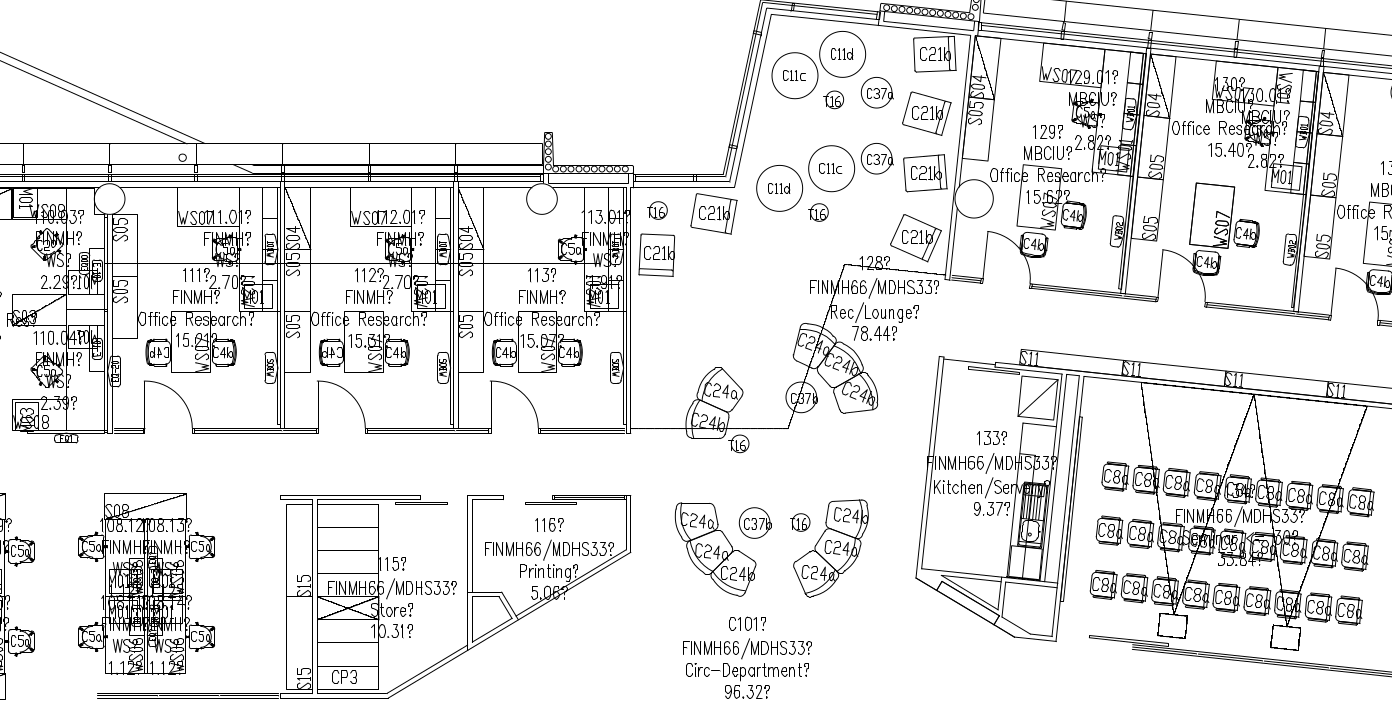door: (485, 376, 543, 445), (311, 375, 369, 444), (138, 376, 196, 445), (980, 228, 1038, 297), (1154, 242, 1212, 311), (1328, 263, 1386, 332)
